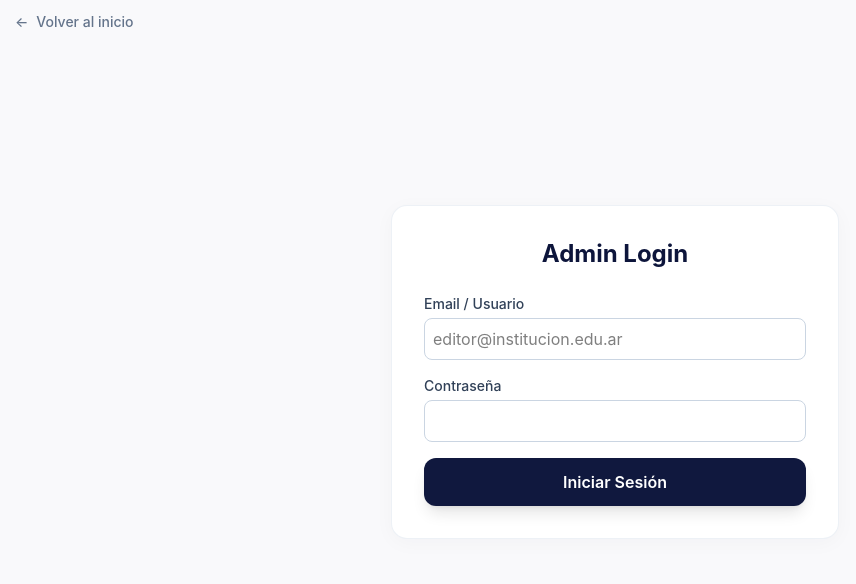
Test: Flujo de Login en LoginPage (Supabase Auth) › debe mostrar mensaje de acceso denegado si el usuario no tiene rol editor (403)
This screenshot has width=856, height=584.
In the field labelled "Email / Usuario": (615, 339) [424, 318, 806, 360], type "otro_usuario@institucion.edu.ar"
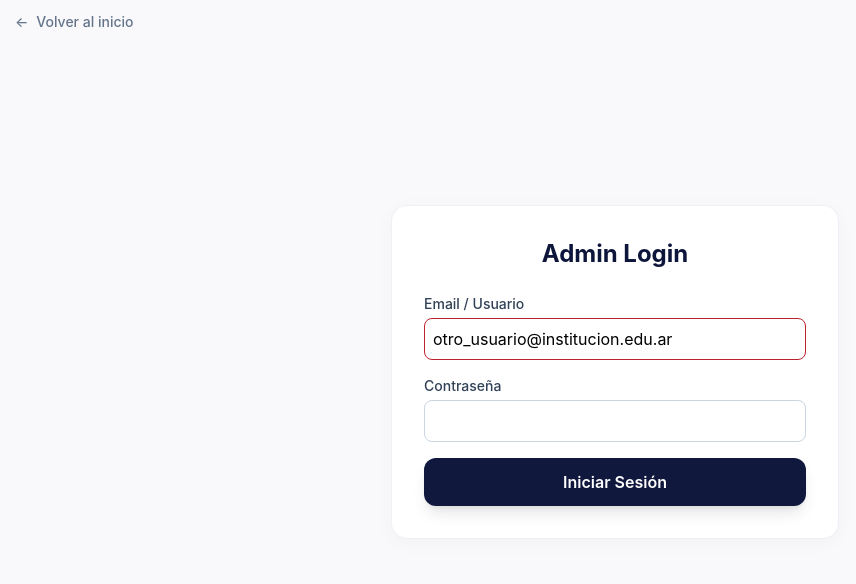
In the password field labelled "Contraseña": (615, 421) [424, 400, 806, 442], type "pass_valida_pero_sin_permiso"
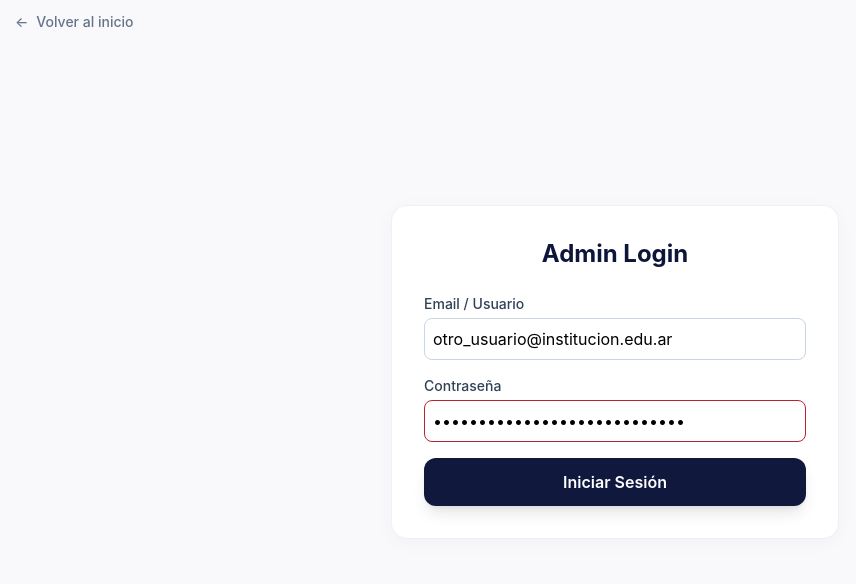
Click the button "Iniciar Sesión": (615, 482) [424, 458, 806, 506]
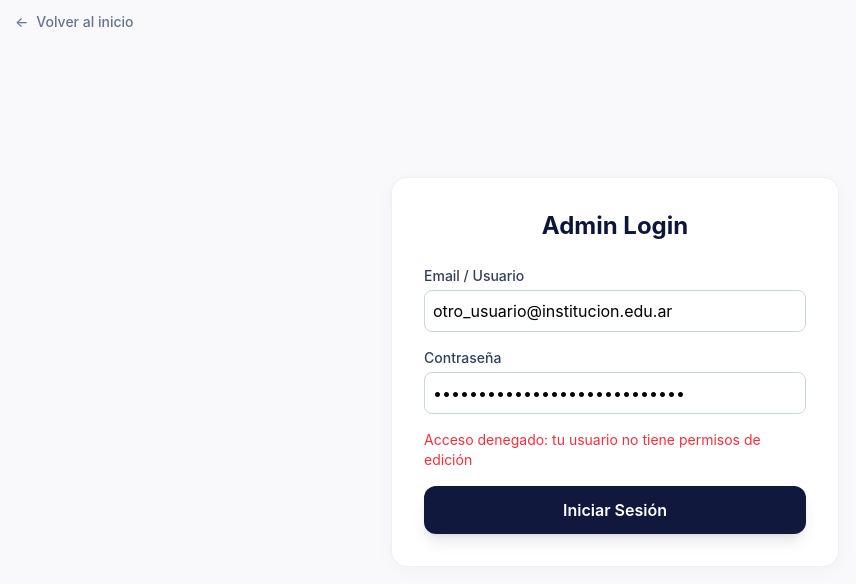
Expected: the message shows "no tiene permisos de edición", [424, 431, 761, 468]
